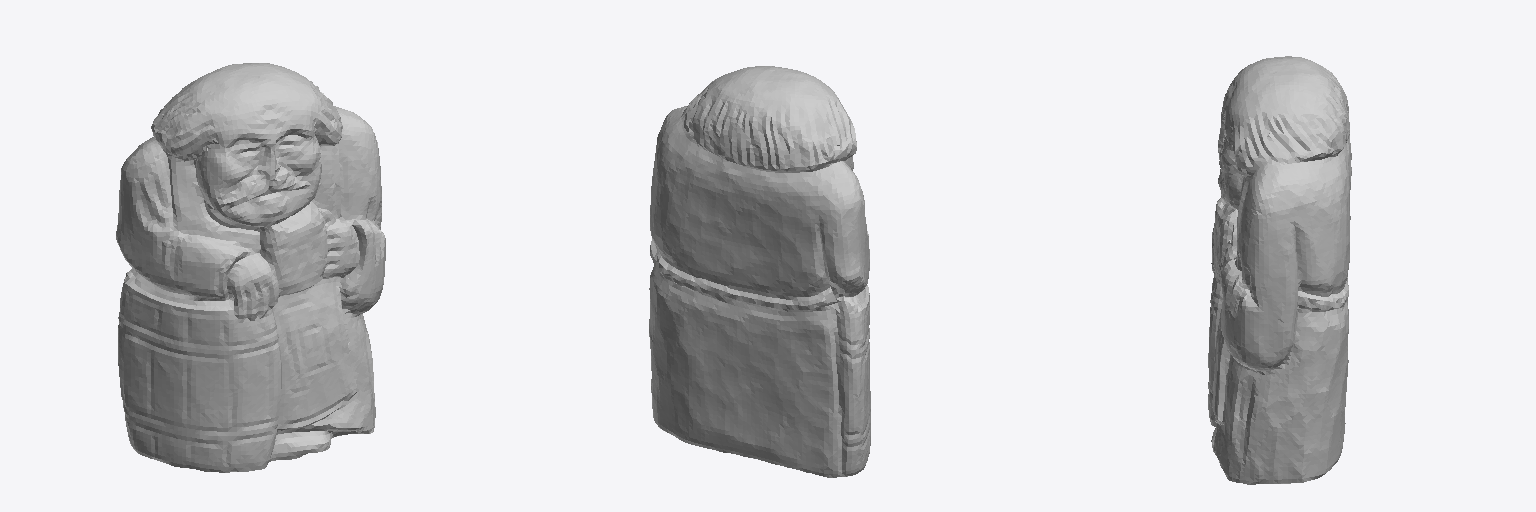
Rendered from Hojda8.obj.
The picture shows the model from 3 angles: view 1: azimuth 30°, elevation 25°; view 2: azimuth 150°, elevation 25°; view 3: azimuth 270°, elevation 25°; orthographic projection.
Visible parts, largest first — view 1: Hojda8_lowpoly; view 2: Hojda8_lowpoly; view 3: Hojda8_lowpoly.
Boxes of the visible parts, box(x1,y1,x2,y2) form: Hojda8_lowpoly: box(116, 63, 385, 472); Hojda8_lowpoly: box(649, 66, 870, 477); Hojda8_lowpoly: box(1208, 56, 1351, 484).
Size of the model in its own units: 0.1377 by 0.2099 by 0.0744.